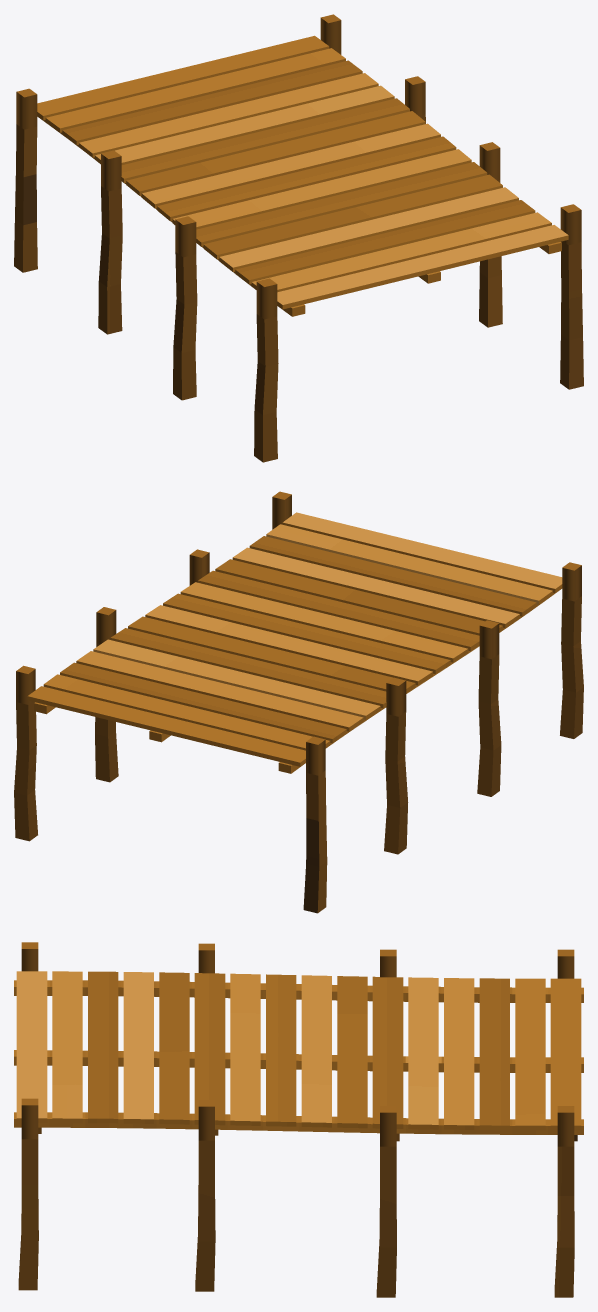
File: Dermaga_2.fbx
3 views of the same model, one above another, from view 1: azimuth 30°, elevation 25°; view 2: azimuth 150°, elevation 25°; view 3: azimuth 270°, elevation 25° (orthographic). The views are drawn at different scales.
Visible parts, largest first — view 1: Dermaga; view 2: Dermaga; view 3: Dermaga.
Part boxes in pixels (<box>): Dermaga: <box>14,14,583,462</box>; Dermaga: <box>14,491,583,913</box>; Dermaga: <box>14,942,583,1297</box>.
Size of the model in its own units: 316 by 158 by 443.
